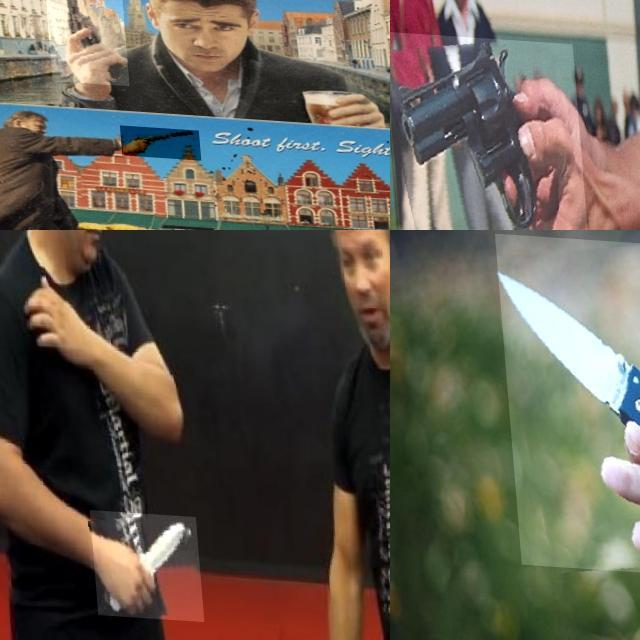-: (492, 231, 640, 574), (82, 508, 196, 620)
gun-knife-thesis - v11 Yolov5 augmented: (390, 29, 582, 230), (213, 0, 390, 96), (39, 0, 122, 82), (112, 122, 194, 156)
